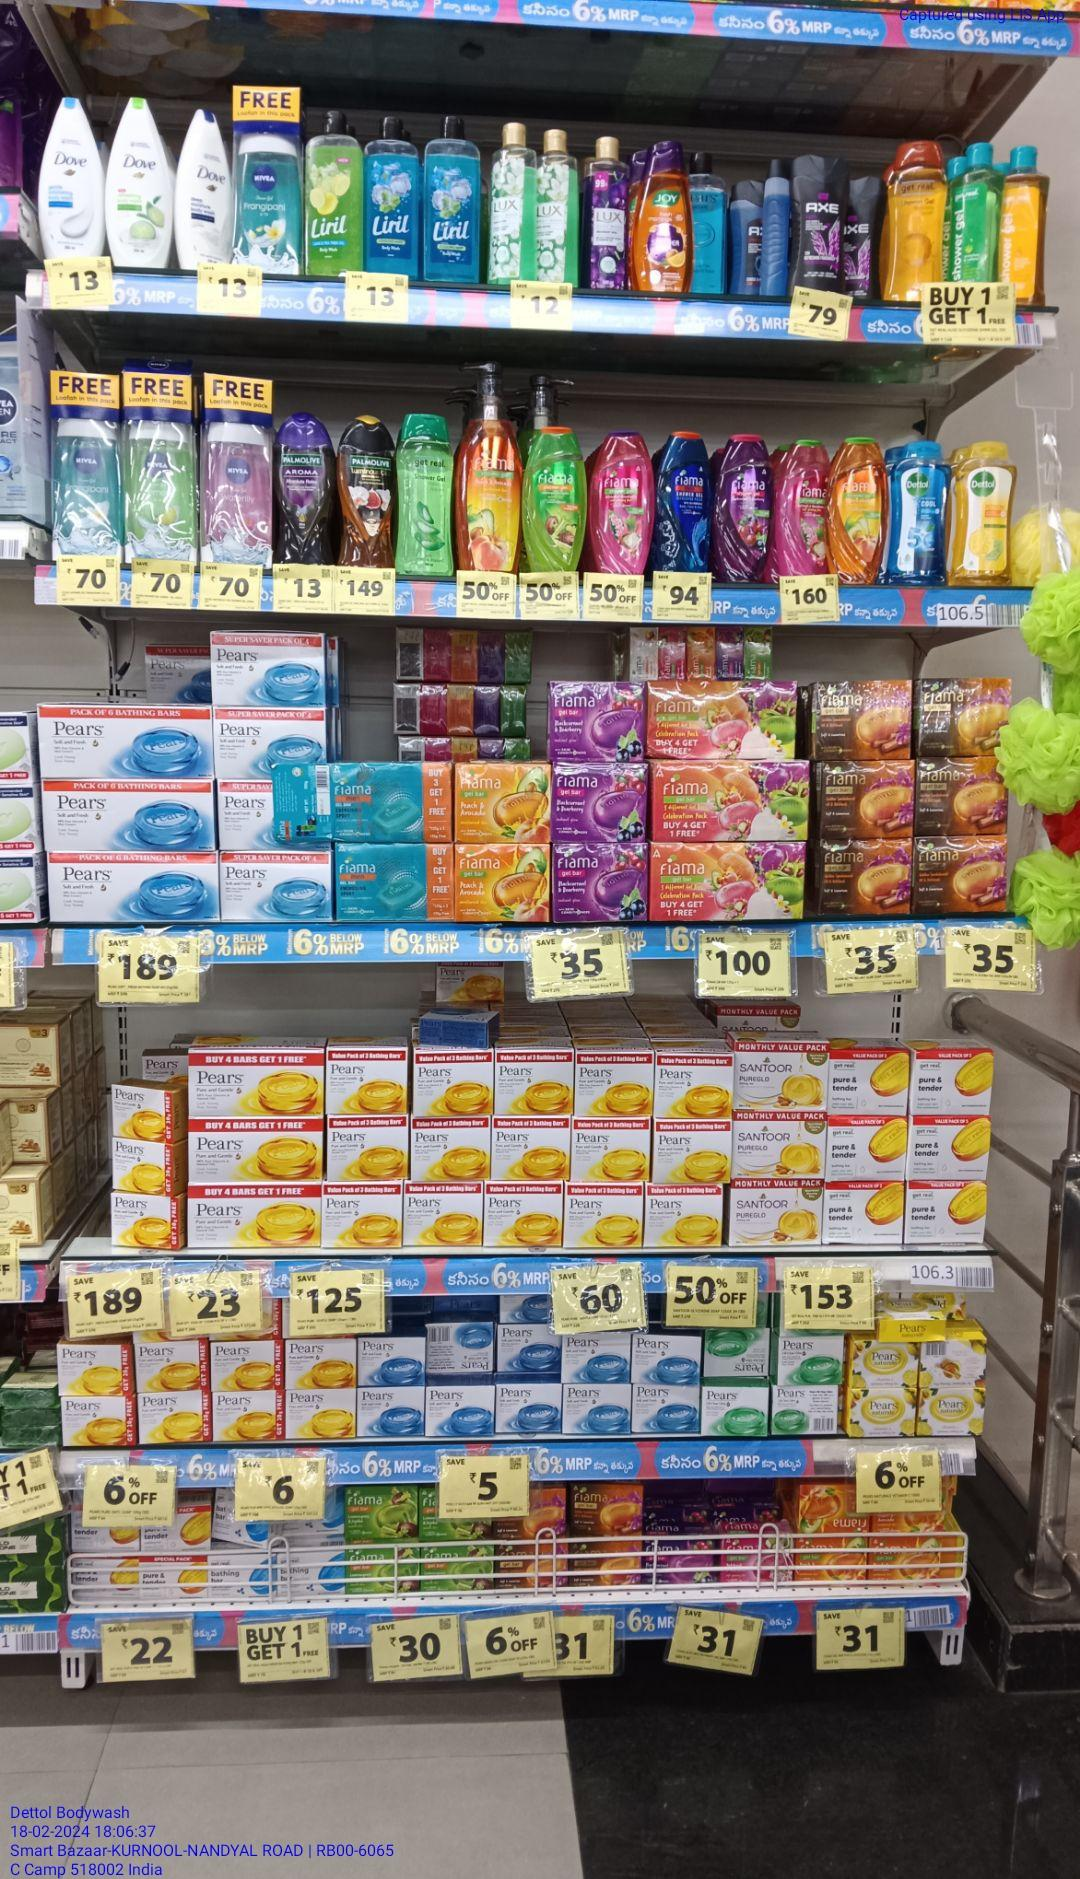Dettol_Bodywash_Cool: (892, 440, 945, 586)
Dettol_Bodywash_Refresh: (947, 441, 1012, 587)
Dove_Deep_Moisture_Body_Wash_250ML: (178, 112, 232, 274)
Dove_Gentle_Exfoliating_Body_Wash_250ML: (40, 98, 107, 258)
Dove_Refreshing_Body_Wash_250ML: (110, 94, 178, 270)
Fiama_Shower_Gel_Lemongrass_and_Jojoba_250ML: (528, 432, 583, 577)
Fiama_Shower_Gel_Patchouli_and_Macadamia_250ML: (588, 426, 650, 576), (777, 441, 830, 577)
Fiama_Shower_Gel_Peach_and_Avocado_250ML: (461, 419, 520, 574), (832, 436, 880, 585)
Get_Real_Shower_Gel_Moisturising_Glycerin_300ML: (890, 139, 951, 305)
Joy_Shower_Gel_Mandarin_and_Lemongrass_250ML: (640, 142, 688, 298)
Liril_Cooling_Mint_Body_Wash_250ML: (425, 117, 483, 284), (365, 116, 422, 277)
Liril_Lime_and_Tea_Tree_Oil_Body_Wash_250ML: (303, 110, 360, 277)
Lux_Black_Orchid_Scent_and_Juniper_Oil_Body_Wash_245ML: (590, 134, 631, 290)
Lux_Body_Wash_Skin_Detox_Freesia_Scent_and_Alove_Vera_245ML: (533, 124, 581, 281), (488, 121, 532, 286)
Nivea_Shower_Gel_Frangipani_and_Oil_250ML: (235, 117, 299, 275), (49, 418, 120, 559)
Nivea_Shower_Gel_Lemon_and_Oil_250ML: (125, 421, 199, 563)
Nivea_Shower_Gel_Waterlily_and_Oil_250ML: (205, 423, 272, 565)
Palmolive_Aroma_Relax_250ML: (277, 416, 333, 559)
Palmolive_Luminous_Oils_With_White_Orchid_Shower_Gel_250ML: (338, 414, 392, 567)
Pears_Pure_Glycerin_and_Mint_Extracts_Body_Wash_250ML: (689, 150, 725, 294)
